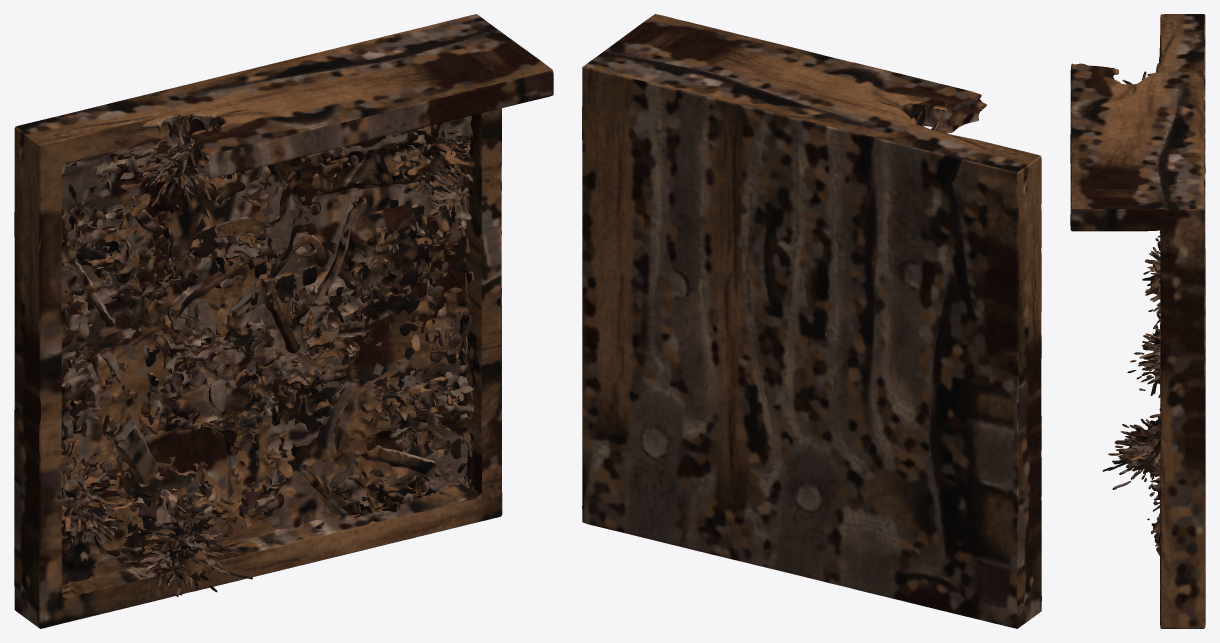
The model's file is swamp_ground_patch.obj.
The picture shows the model from 3 angles, left to right: view 1: azimuth 30°, elevation 25°; view 2: azimuth 150°, elevation 25°; view 3: azimuth 270°, elevation 25°; orthographic projection. The views are drawn at different scales.
Visible parts, largest first — view 1: geometry_0; view 2: geometry_0; view 3: geometry_0.
Part boxes in pixels (x1,y1,x2,y2): geometry_0: (14,14,553,628); geometry_0: (582,14,1041,628); geometry_0: (1070,14,1205,628).
Bounding box in the file's own units: 1 × 0.9999 × 0.2919.
